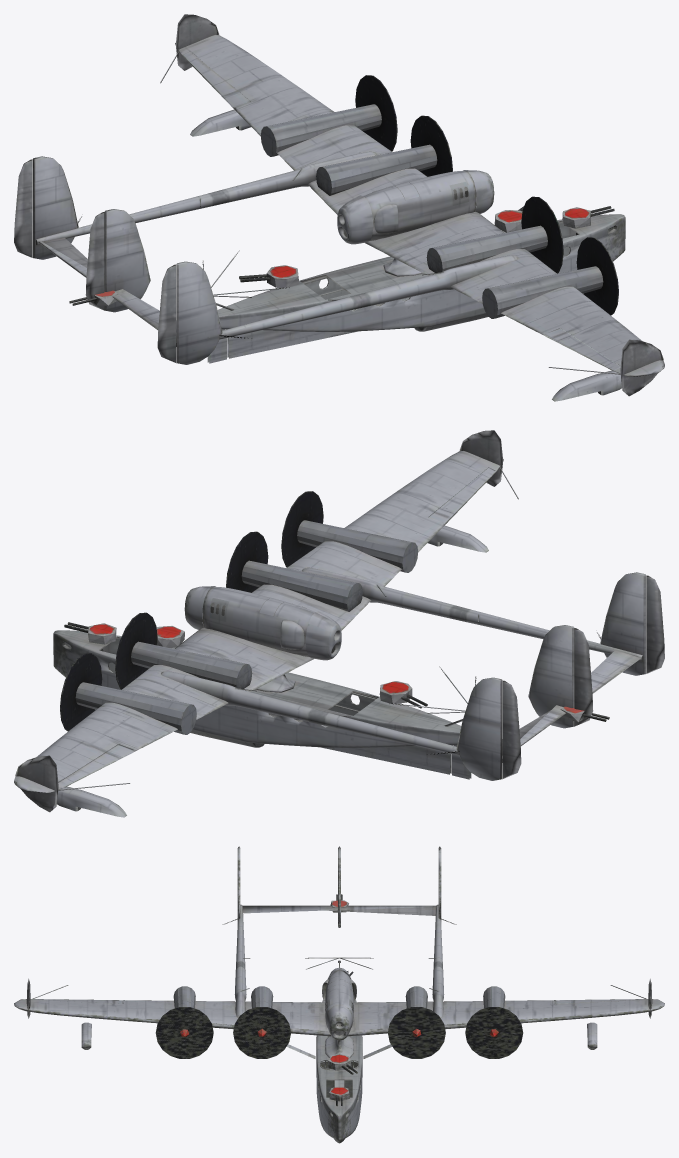
File: fh_battle_e_albatross.glb
3 views of the same model, one above another, from view 1: azimuth 30°, elevation 25°; view 2: azimuth 150°, elevation 25°; view 3: azimuth 270°, elevation 25° (orthographic). The views are drawn at different scales.
Parts seen in each view (by area): view 1: body; view 2: body; view 3: body.
Boxes of the visible parts, left/top/right/bottom form: body: left=14, top=14, right=664, bottom=401; body: left=14, top=430, right=664, bottom=817; body: left=14, top=846, right=664, bottom=1143.
Bounding box in the file's own units: 1 × 0.3381 × 1.46.
1 material, 1 textured.
